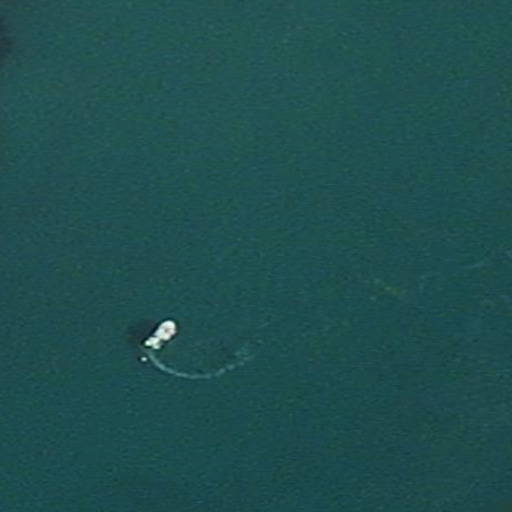ship: (139, 318, 181, 353)
